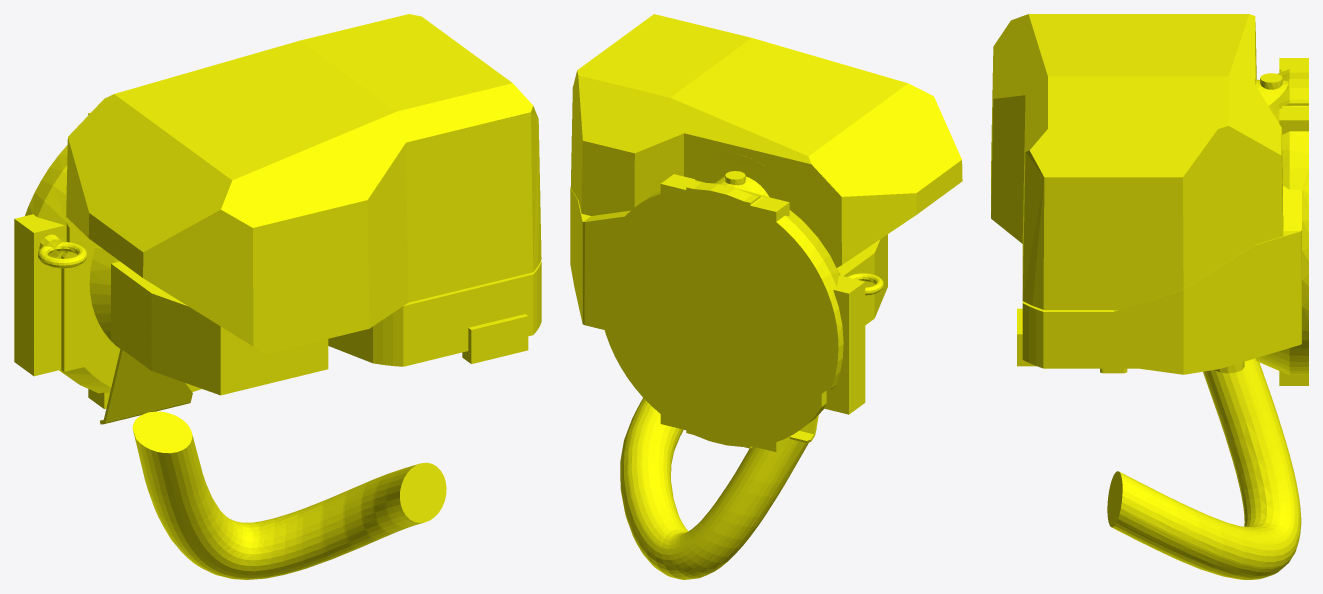
The picture shows the model from 3 angles, left to right: view 1: azimuth 30°, elevation 25°; view 2: azimuth 150°, elevation 25°; view 3: azimuth 270°, elevation 25°; orthographic projection. The views are drawn at different scales.
Parts seen in each view (by area): view 1: node; view 2: node; view 3: node.
Boxes of the visible parts, <box> form: node: <box>14,14,541,579</box>; node: <box>570,14,962,579</box>; node: <box>991,14,1308,579</box>.
Size of the model in its own units: 376 by 493 by 280.
